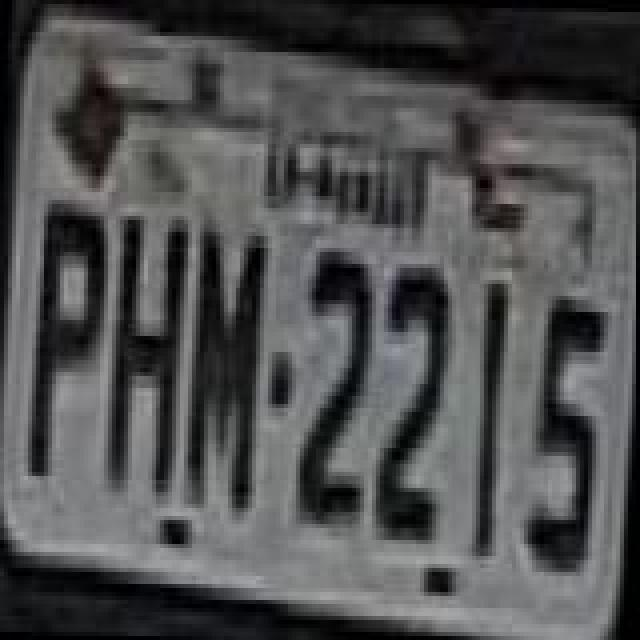1: (468, 268, 508, 568)
2: (292, 238, 384, 530), (364, 258, 456, 550)
5: (520, 286, 612, 578)
H: (100, 216, 192, 508)
M: (180, 216, 272, 520)
P: (22, 190, 114, 482)
